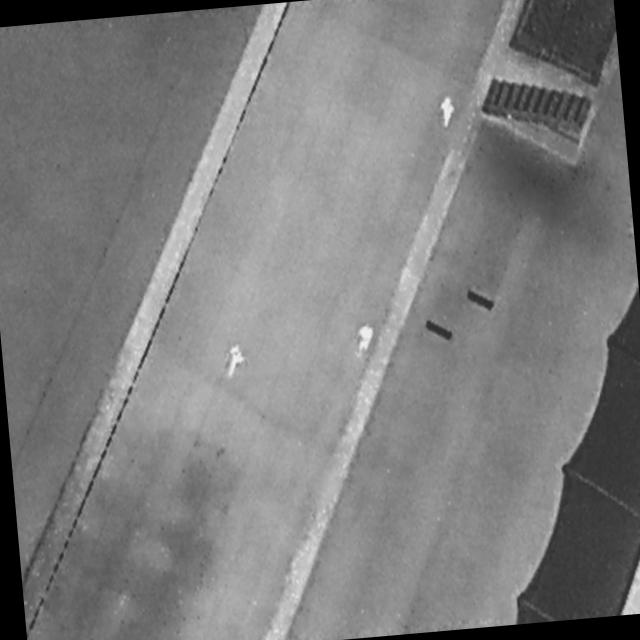person: (222, 338, 250, 382), (351, 318, 377, 357), (438, 92, 459, 127)
